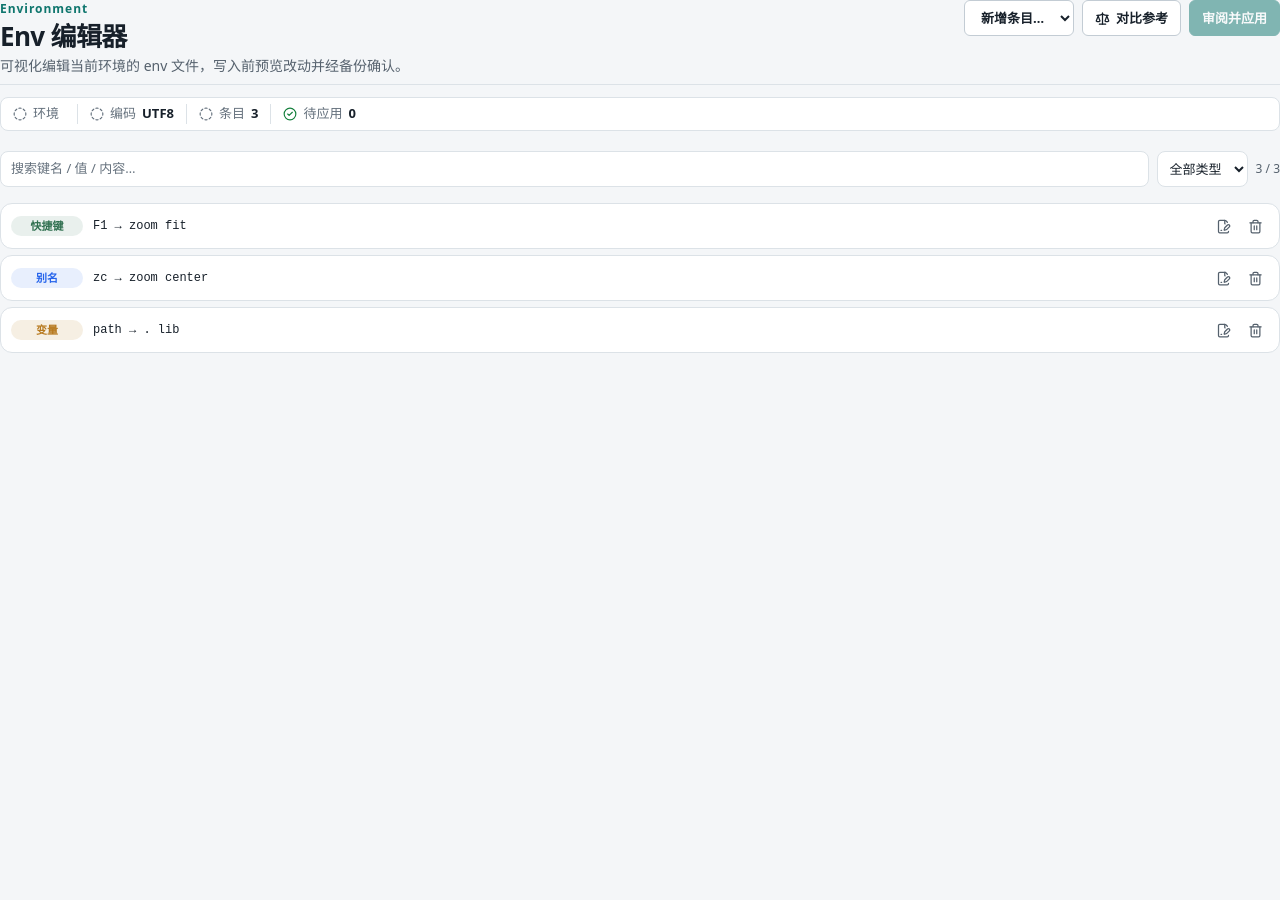
EnvEditorPage - 对比参考 › 复制缺失项应把参考独有条目加入草稿
Expected: the number of list items with class "env-editor-row" is 3, [0,203,1279,249]; [0,255,1279,301]; [0,307,1279,353]
Step 1. Click the button "对比参考" → (1132, 18), box [1082,0,1181,36]
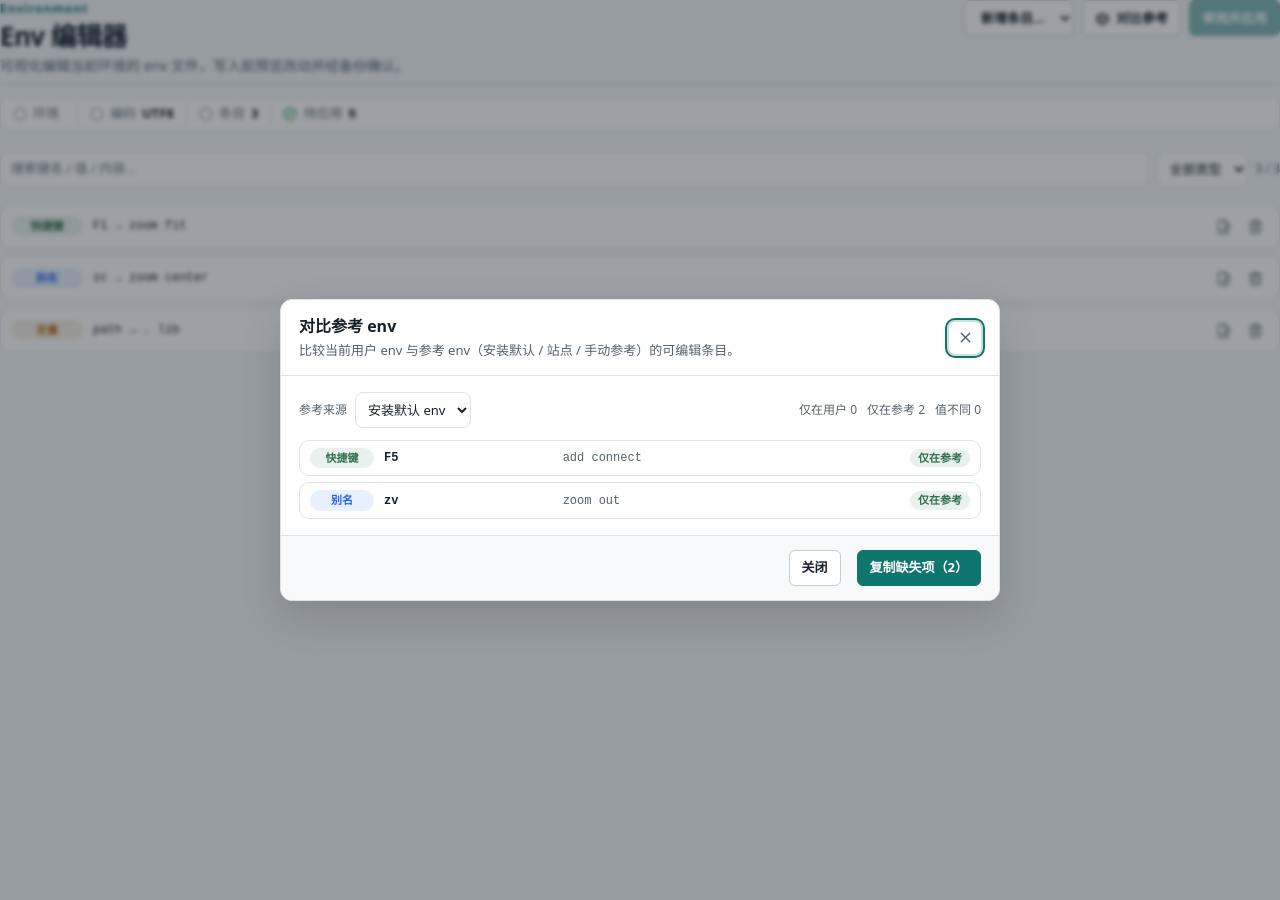
Expected: the heading "对比参考 env" is shown, [299,315,396,337]
Step 2. Click the button "复制缺失项（2）" → (919, 568), box [856,550,981,586]
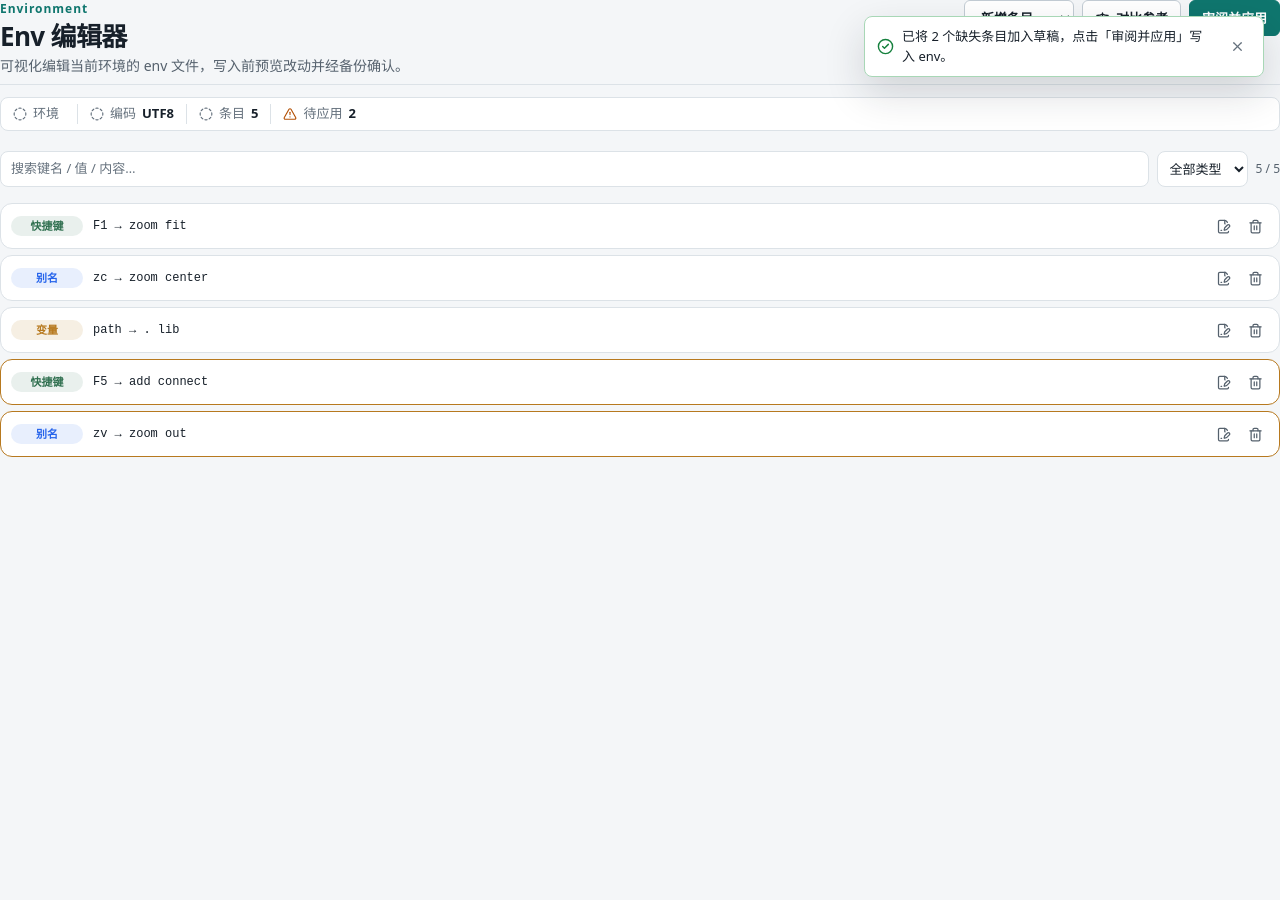
Expected: the number of list items with class "env-editor-row" is 5, [0,203,1279,249]; [0,255,1279,301]; [0,307,1279,353]; [0,359,1279,405]; [0,411,1279,457]
Expected: the text "F5 → add connect" is shown, [93,375,208,389]
Expected: the text "zv → zoom out" is shown, [93,427,187,441]
